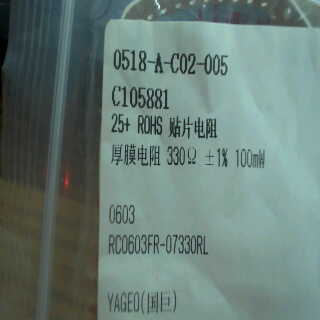330R: (164, 142, 199, 168)
